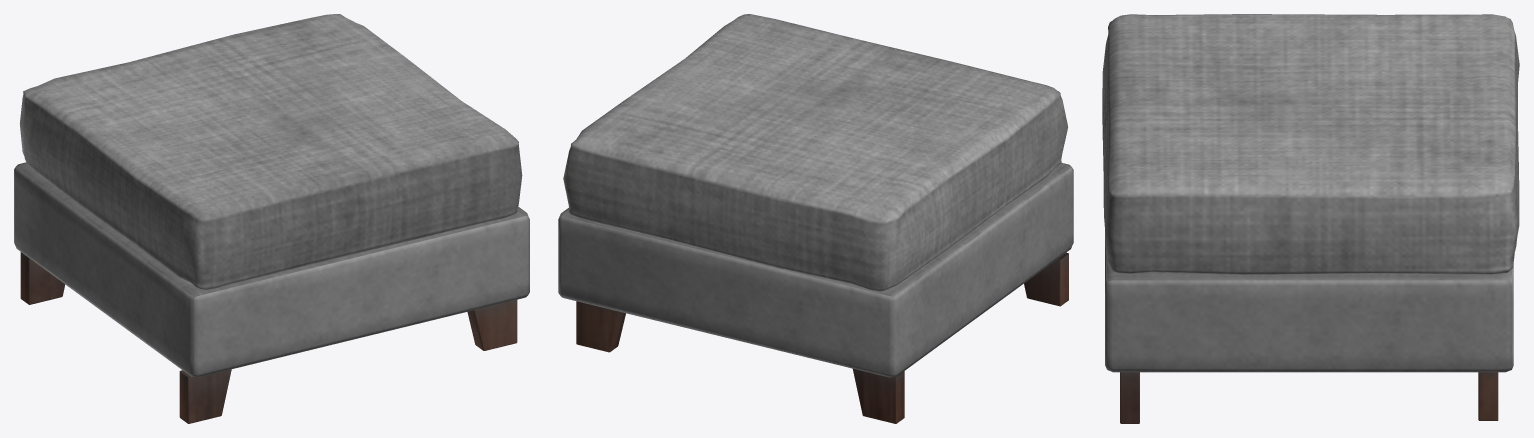
The model's file is Sofa 6.FBX.
The picture shows the model from 3 angles, left to right: view 1: azimuth 30°, elevation 25°; view 2: azimuth 150°, elevation 25°; view 3: azimuth 270°, elevation 25°; orthographic projection. The views are drawn at different scales.
Parts seen in each view (by area): view 1: Sofa 6; view 2: Sofa 6; view 3: Sofa 6.
Part boxes in pixels (<box>): Sofa 6: <box>14,14,529,423</box>; Sofa 6: <box>558,14,1073,423</box>; Sofa 6: <box>1102,14,1519,423</box>.
Bounding box in the file's own units: 99.45 × 59.06 × 94.3.
